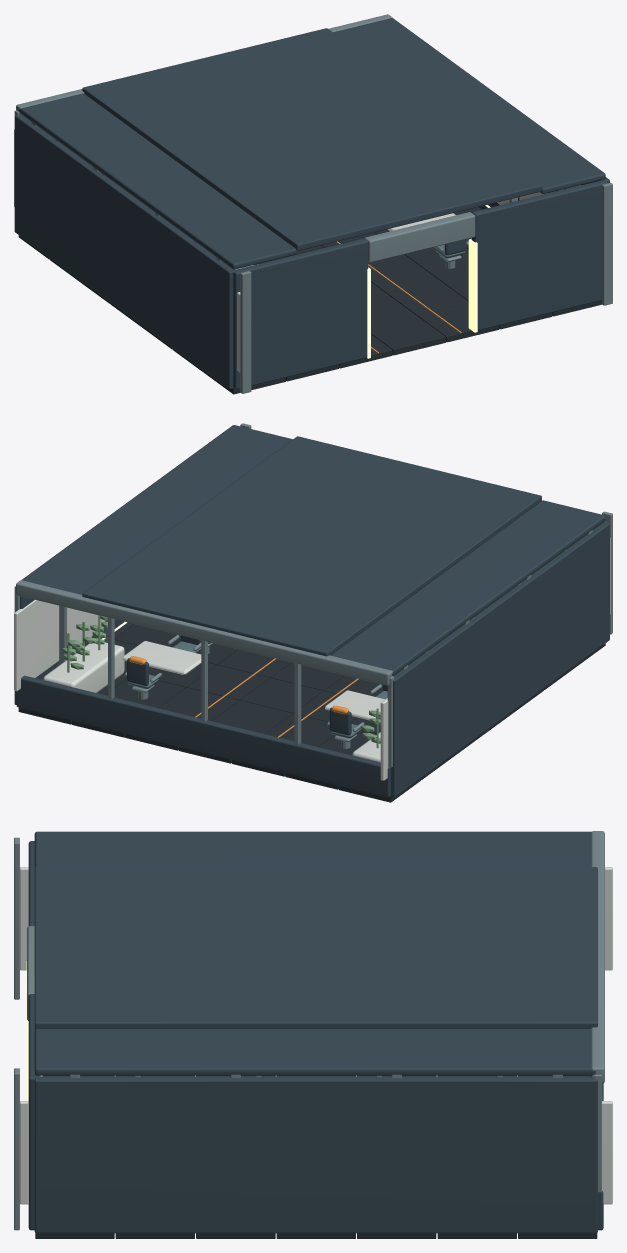
The model's file is mess_room.glb.
3 renders of one model, top to bottom at view 1: azimuth 30°, elevation 25°; view 2: azimuth 150°, elevation 25°; view 3: azimuth 270°, elevation 25°, orthographic. The views are drawn at different scales.
Visible parts, largest first — view 1: mess_room; view 2: mess_room; view 3: mess_room.
Part boxes in pixels (left/top/right/bottom): mess_room: left=14, top=14, right=612, bottom=394; mess_room: left=14, top=423, right=612, bottom=802; mess_room: left=14, top=831, right=612, bottom=1238.
Bounding box in the file's own units: 14.3 × 4.82 × 14.89.
